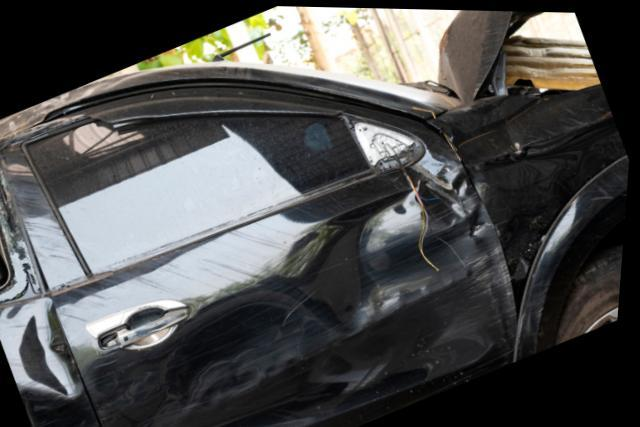dent: (145, 160, 498, 427), (5, 300, 81, 393), (491, 119, 560, 182)
glass shatter: (0, 156, 43, 306)
scratch: (427, 221, 524, 343)
